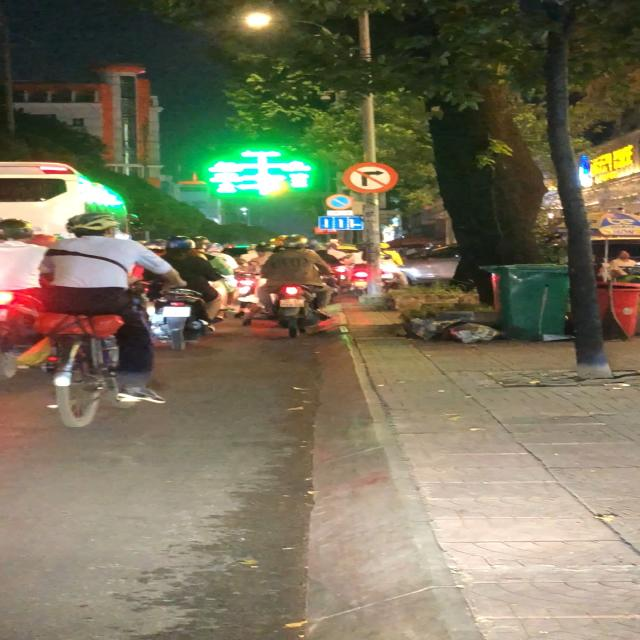Bien bao cam re phai: (340, 161, 402, 194)
